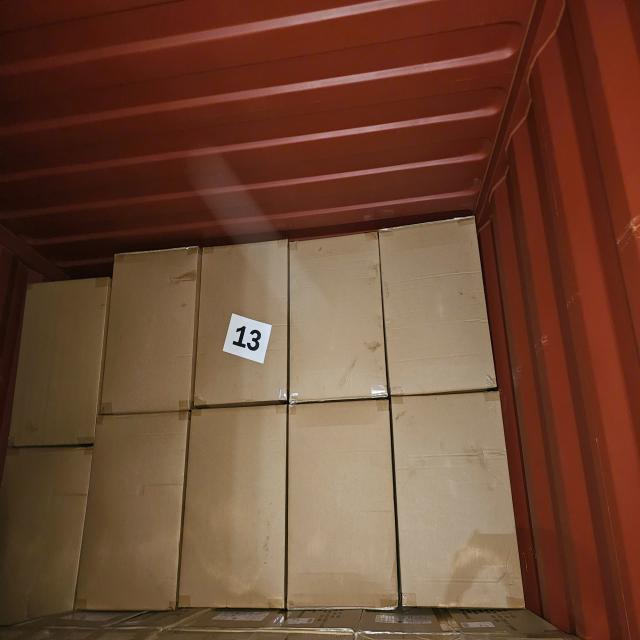Carton: (395, 385, 525, 610), (286, 402, 392, 615), (185, 407, 292, 616), (85, 415, 187, 619), (384, 212, 492, 395), (0, 441, 90, 623), (288, 229, 382, 401), (12, 280, 104, 450), (193, 241, 287, 407), (108, 253, 198, 420)
